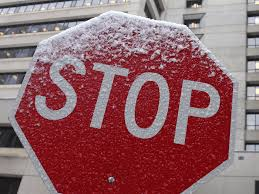SS: (14, 12, 234, 194)
